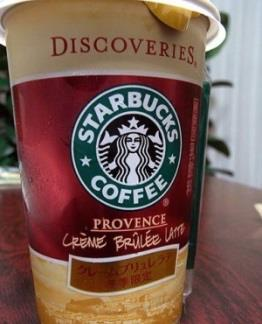starbucks: (67, 79, 183, 209)
